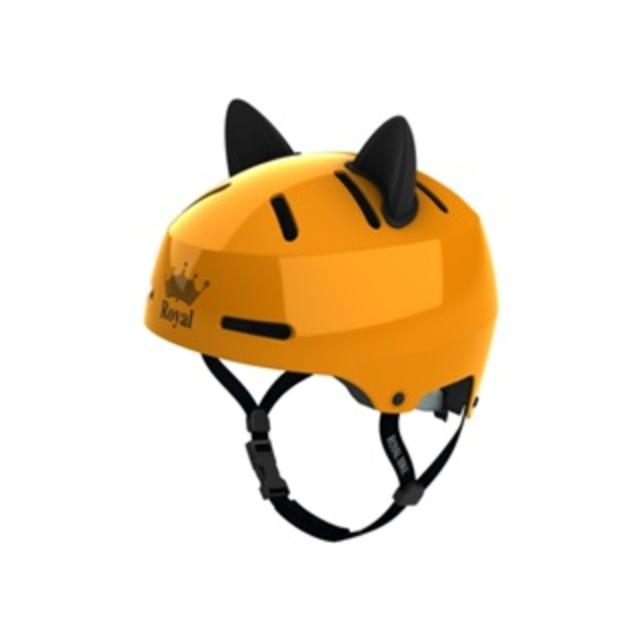Helmet: (134, 92, 508, 546)
